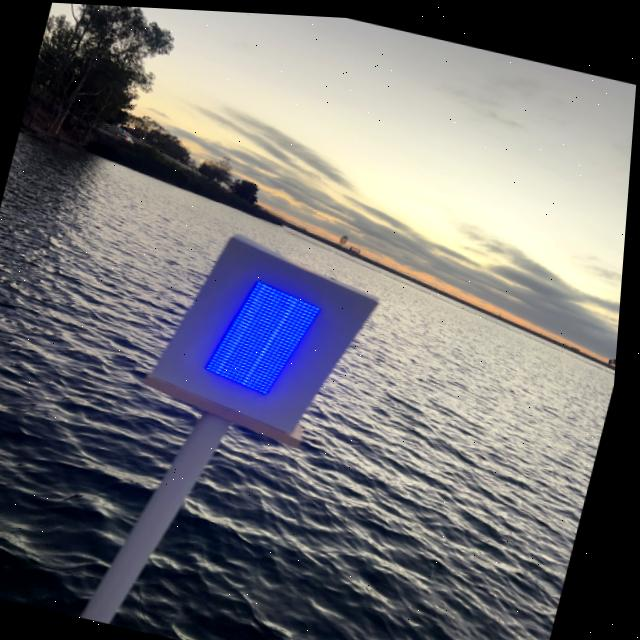led: (190, 249, 341, 424)
